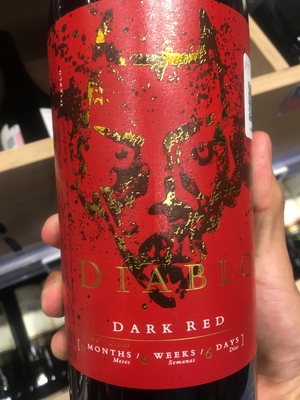diablo dark red: (39, 2, 268, 400)
